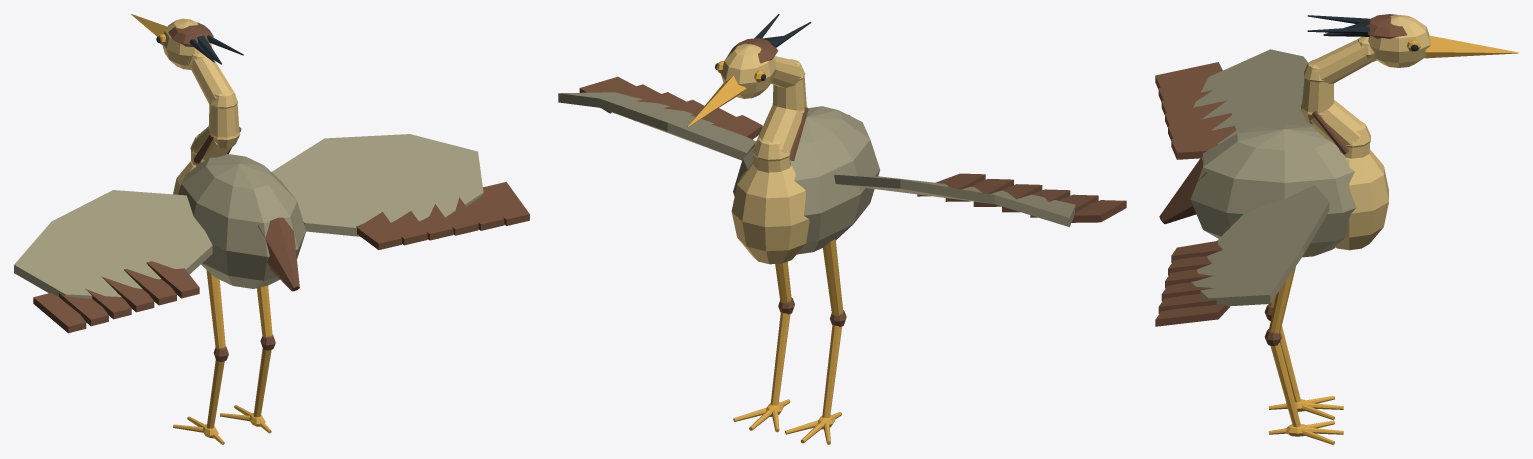
File: heron-reed.glb
3 views of the same model, side by side, from view 1: azimuth 30°, elevation 25°; view 2: azimuth 150°, elevation 25°; view 3: azimuth 270°, elevation 25° (orthographic). The views are drawn at different scales.
Parts seen in each view (by area): view 1: WingR, WingL, Body, Neck, Head, LegL, LegR; view 2: Body, WingR, WingL, Neck, Head, LegL, LegR; view 3: Body, WingR, WingL, Neck, Head, LegR, LegL, Crest.
Part boxes in pixels (left/top/right/bottom): WingR: left=272, top=134, right=529, bottom=249; WingL: left=14, top=190, right=212, bottom=333; Body: left=173, top=153, right=306, bottom=291; Neck: left=187, top=51, right=241, bottom=165; Head: left=131, top=14, right=221, bottom=69; LegL: left=173, top=270, right=228, bottom=444; LegR: left=220, top=285, right=275, bottom=433; Body: left=731, top=106, right=879, bottom=264; WingR: left=558, top=76, right=762, bottom=160; WingL: left=834, top=173, right=1126, bottom=226; Neck: left=752, top=56, right=808, bottom=172; Head: left=687, top=36, right=782, bottom=126; LegL: left=785, top=239, right=846, bottom=444; LegR: left=733, top=262, right=794, bottom=432; Body: left=1159, top=124, right=1388, bottom=257; WingR: left=1155, top=185, right=1329, bottom=326; WingL: left=1155, top=49, right=1312, bottom=159; Neck: left=1301, top=36, right=1376, bottom=158; Head: left=1323, top=14, right=1518, bottom=67; LegR: left=1264, top=266, right=1343, bottom=444; LegL: left=1264, top=296, right=1343, bottom=420; Crest: left=1307, top=15, right=1369, bottom=33.
Size of the model in its own units: 2.06 by 1.56 by 1.26.
